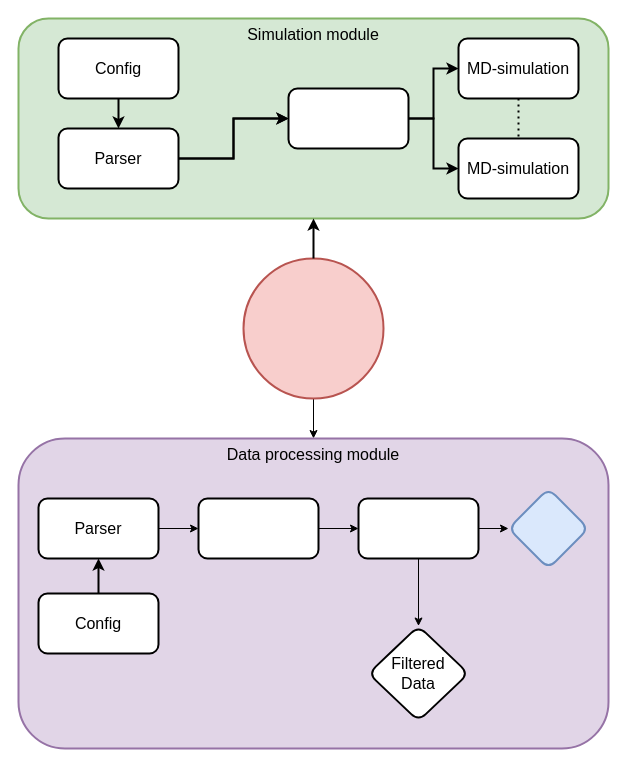
Image size: 626x766. Some labels were removed from this diagram. The centre of each missing label's shape, as x and y in pixels:
"Database manager" belongs at [418,528].
"DB" belongs at [548,528].
"MDSE CLI" belongs at [313,328].
"Run manager" belongs at [348,118].
"Visualization" belongs at [258,528].
